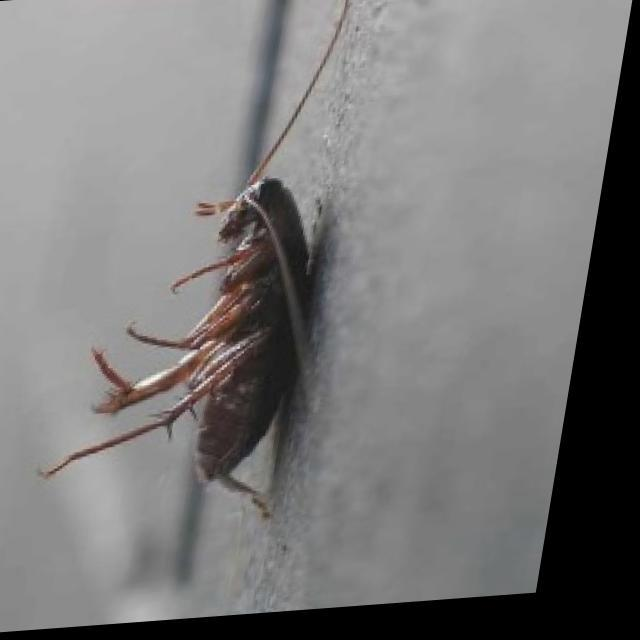cockroach: (93, 139, 331, 506)
